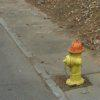Hydrant: (55, 28, 90, 88)
